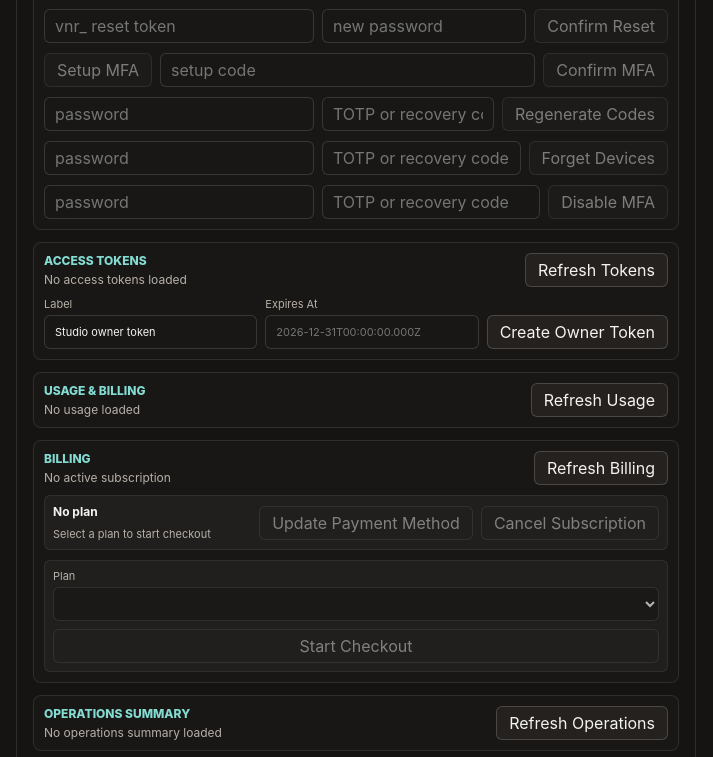
it: Studio App › loads usage and estimated billing through the production API
The width and height of the screenshot is (713, 757).
(page scrolled)
Click the button "Refresh Usage" at point(599, 400), box [531,383,668,417]
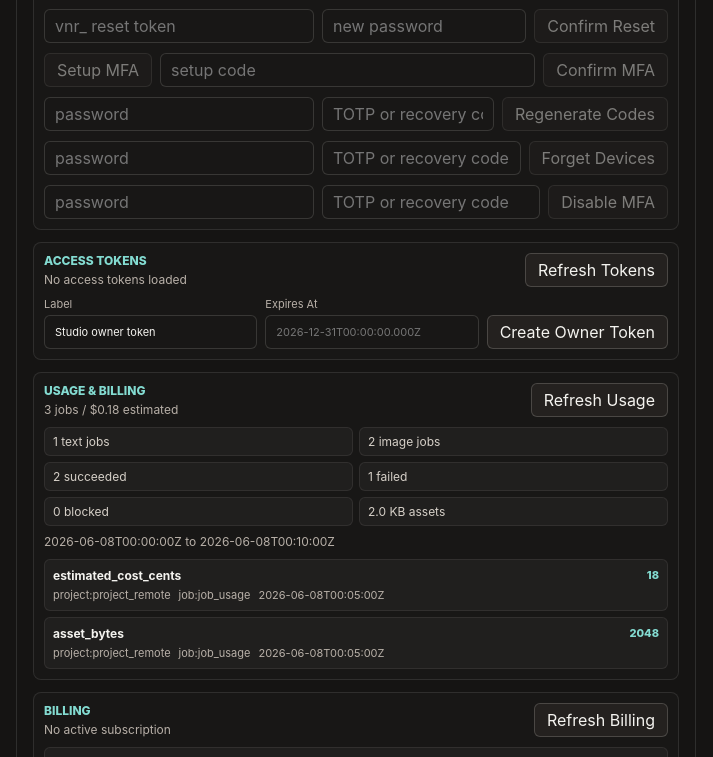
Now the text "3 jobs / $0.18 estimated" is shown, box [44,402,178,417]
Now the text "1 text jobs" is shown, box [44,427,353,456]
Now the text "2 image jobs" is shown, box [359,427,668,456]
